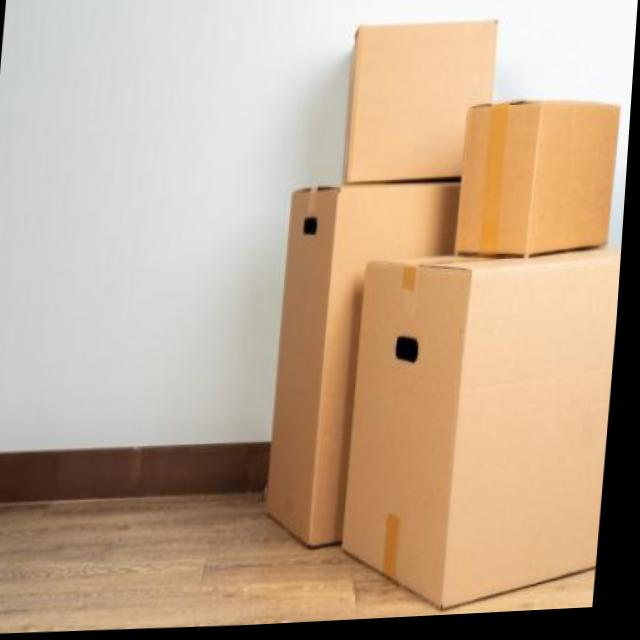box: (335, 247, 626, 625), (255, 168, 461, 592), (451, 86, 630, 302), (333, 8, 507, 196)
